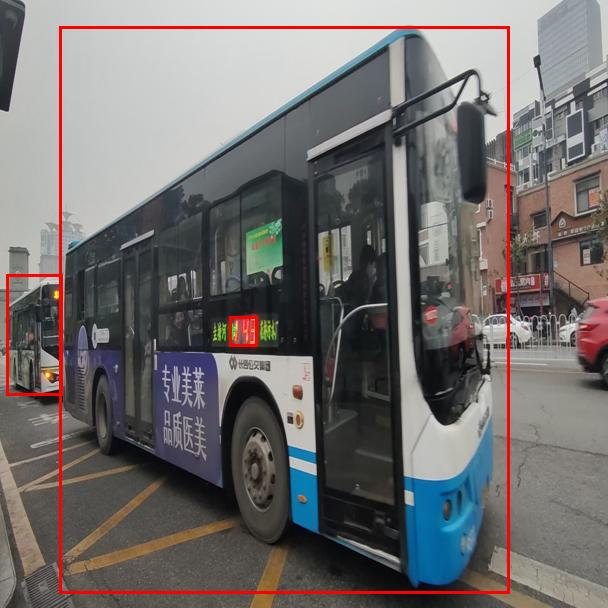bus: (59, 26, 509, 593), (6, 274, 62, 395)
screen: (229, 316, 257, 346)
